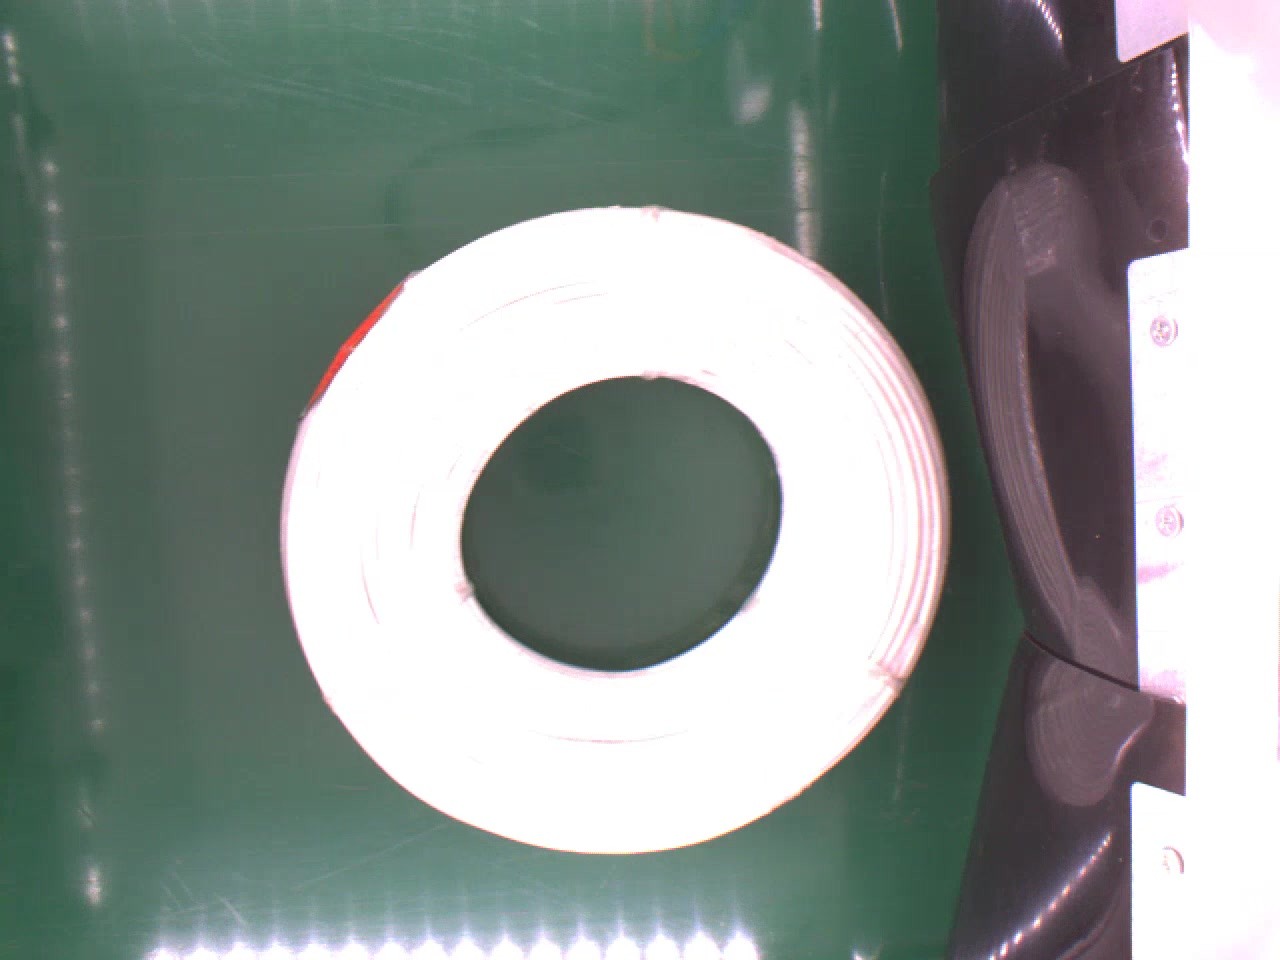white: (276, 197, 956, 860)
